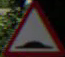Speed Breaker ahead: (6, 7, 62, 50)
